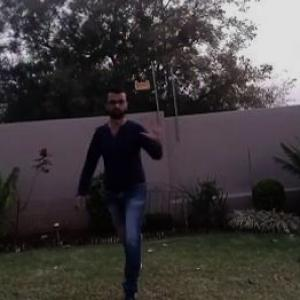follow_hand: (141, 108, 169, 142)
